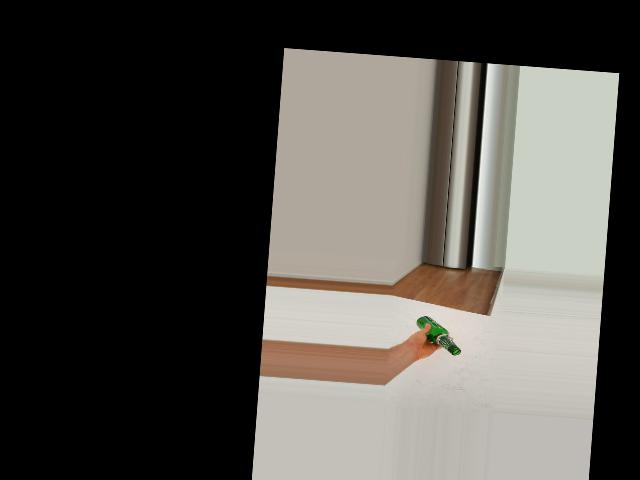beer: (414, 316, 463, 356)
